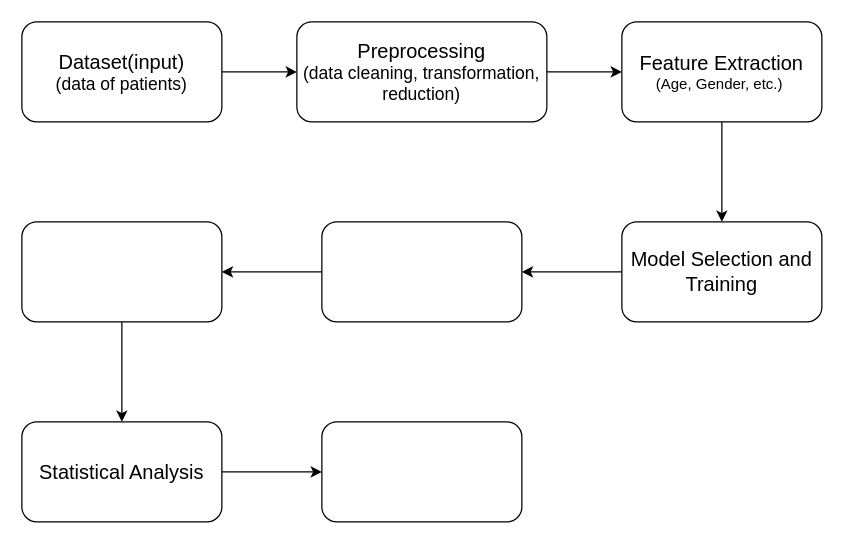
The diagram is 844 pixels wide and 544 high, and some of its shapes have lost their labels. The box of each missing label's shape, as (x1, y1, x2, y2) in pixels:
Interpretation & Discussion(output): (321, 421, 522, 522)
Model Comparison: (21, 221, 222, 322)
Model Evaluation: (321, 221, 522, 322)
